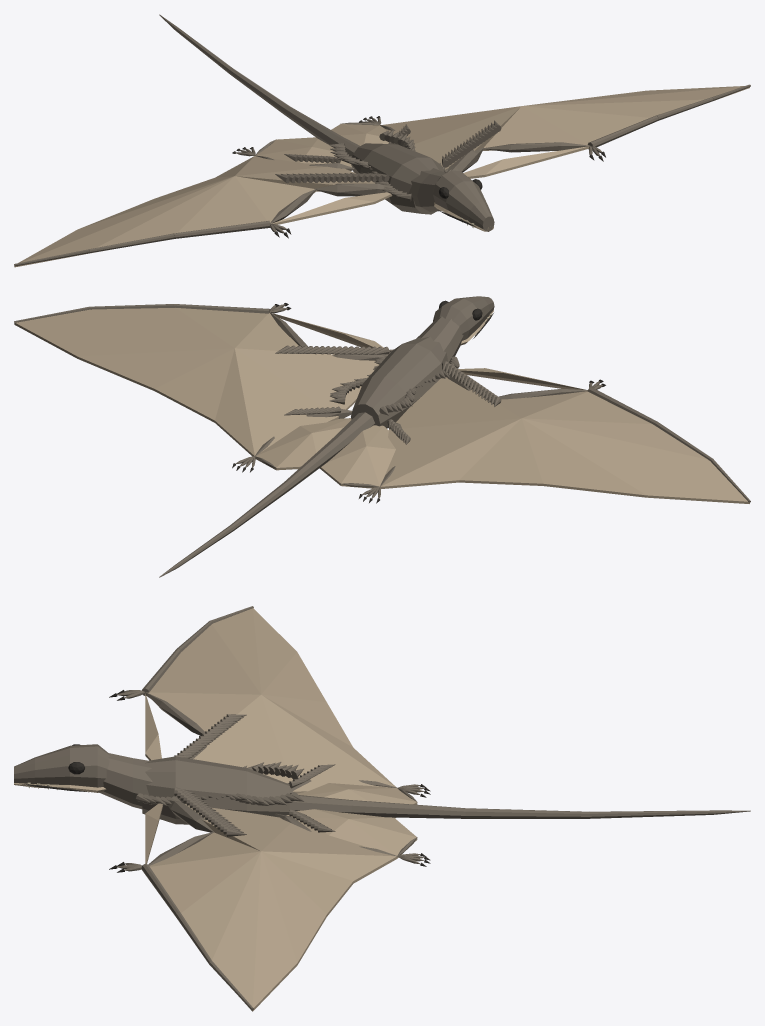
3 views of the same model, one above another, from view 1: azimuth 30°, elevation 25°; view 2: azimuth 150°, elevation 25°; view 3: azimuth 270°, elevation 25° (orthographic). The views are drawn at different scales.
Parts seen in each view (by area): view 1: surface_tan_membrane, surface_brown_grey_fibres, surface_eyes_claws; view 2: surface_tan_membrane, surface_brown_grey_fibres; view 3: surface_tan_membrane, surface_brown_grey_fibres.
Part boxes in pixels (x1,y1,x2,y2): surface_tan_membrane: (14,86,749,267); surface_brown_grey_fibres: (14,14,750,266); surface_eyes_claws: (232,116,605,238); surface_tan_membrane: (14,308,749,503); surface_brown_grey_fibres: (14,296,750,577); surface_tan_membrane: (14,608,417,1011); surface_brown_grey_fibres: (14,606,750,1010).
Size of the model in its own units: 1 by 0.0942 by 0.775.
